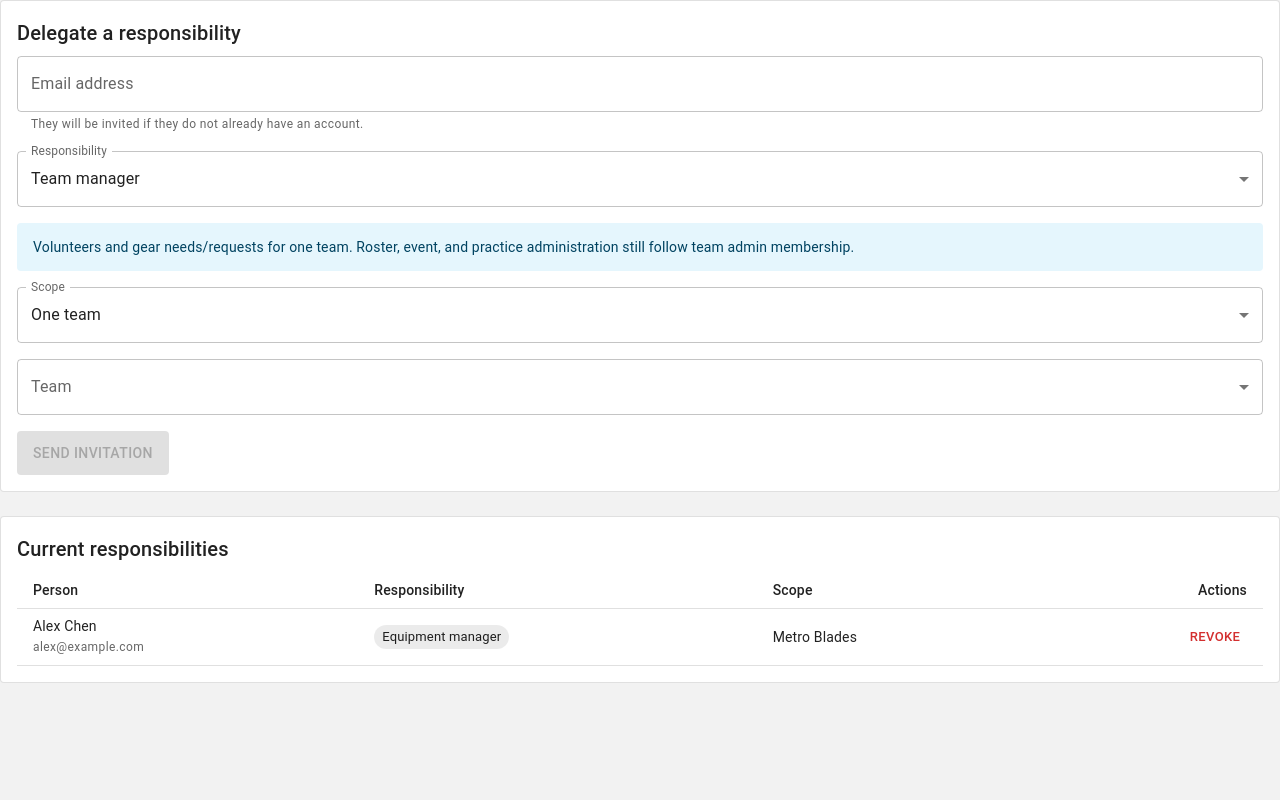
Test: RoleGrantManager › offers the race-weekend scope once rounds exist
Click the dropdown named "Responsibility". click: (85, 179)
box: [31,169,140,188]
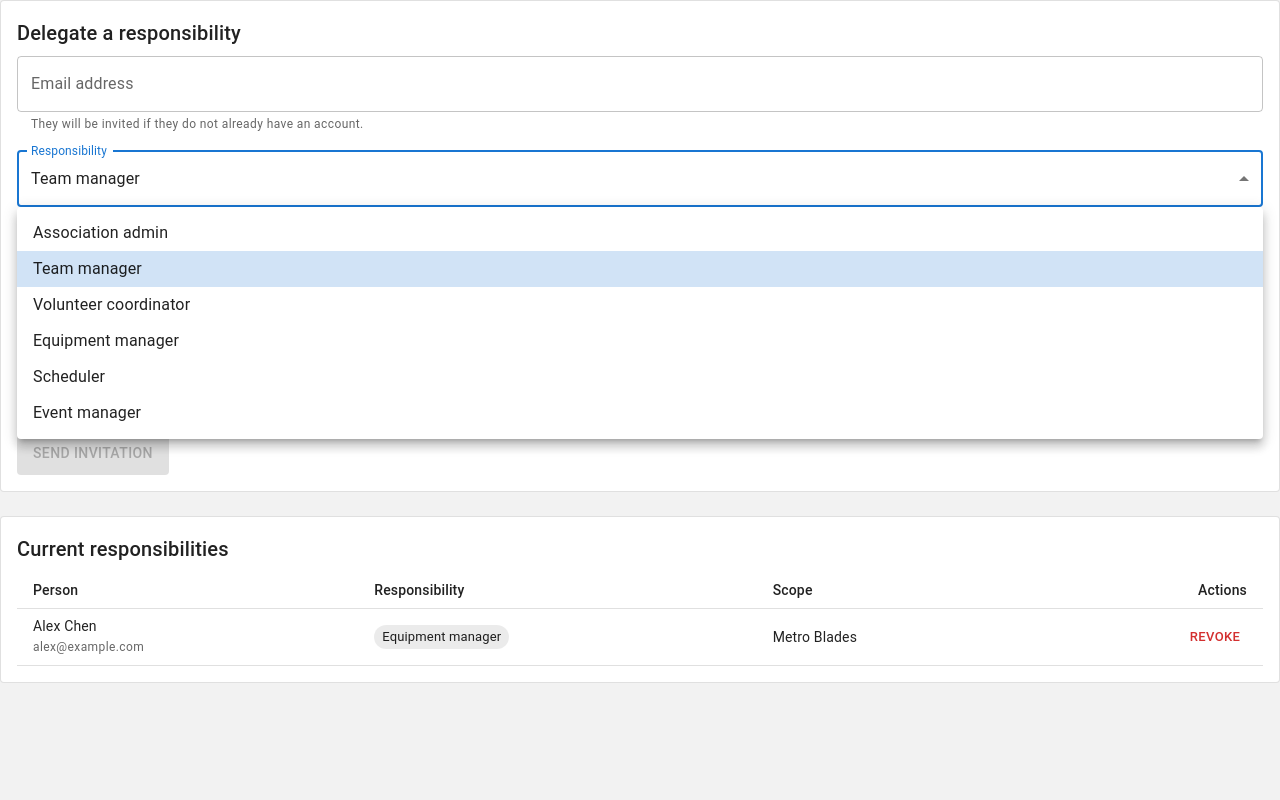
Click the option "Event manager". click: (87, 412)
box: [33,403,141,422]
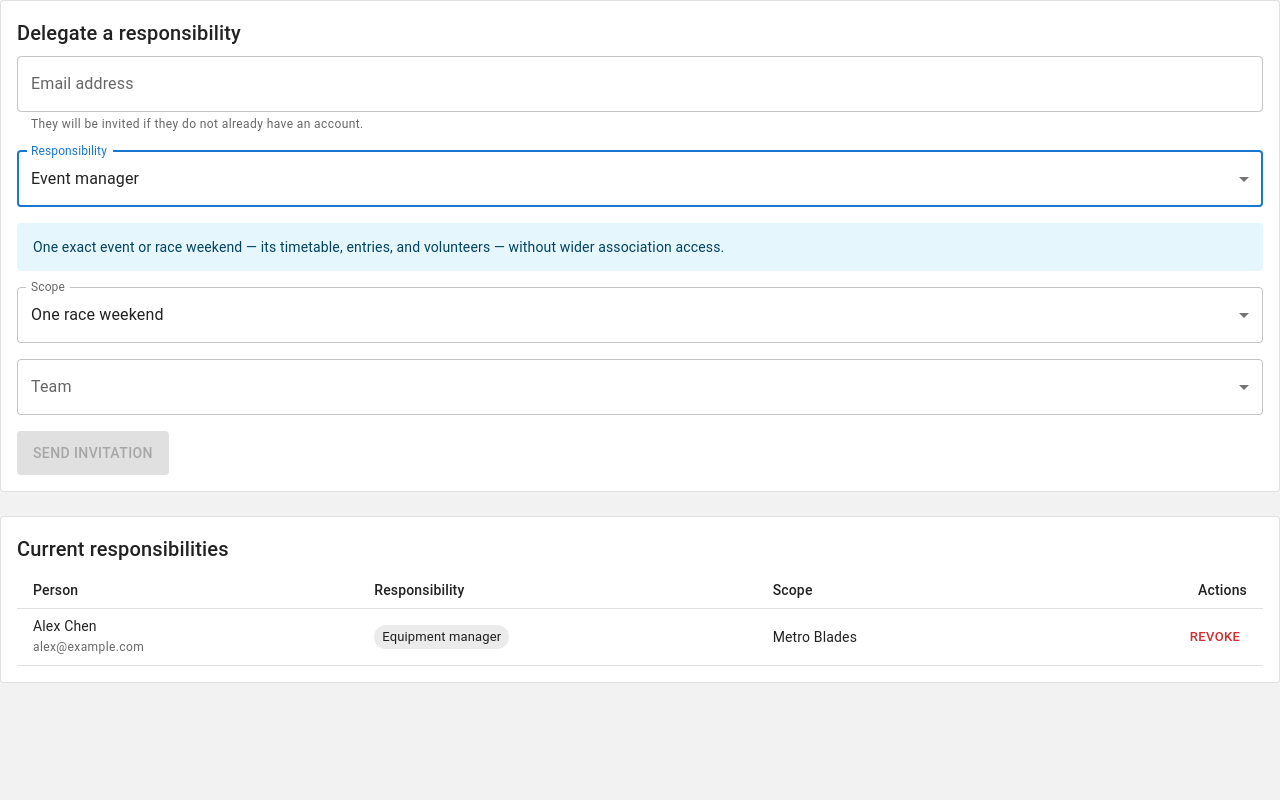
Click the dropdown named "Scope". click: (97, 315)
box: [31,305,164,324]
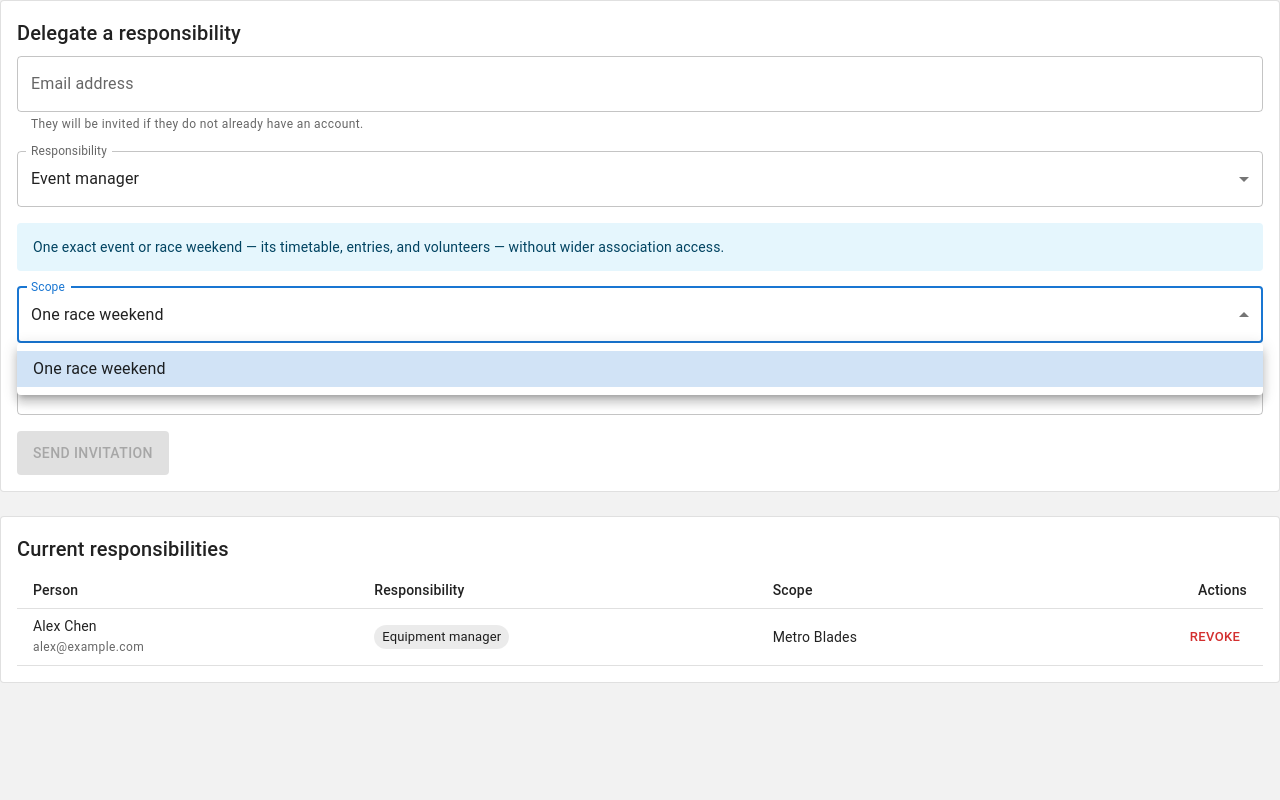
Expected: the option "One race weekend" is shown, [17,351,1263,387]
